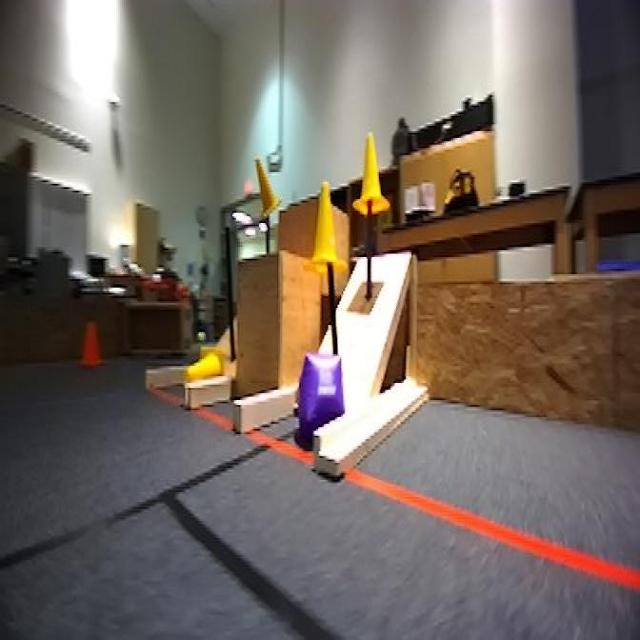frc_cone: (312, 174, 352, 269), (355, 139, 386, 218), (255, 153, 285, 221), (186, 342, 228, 385)
frc_cube: (295, 347, 348, 439)
